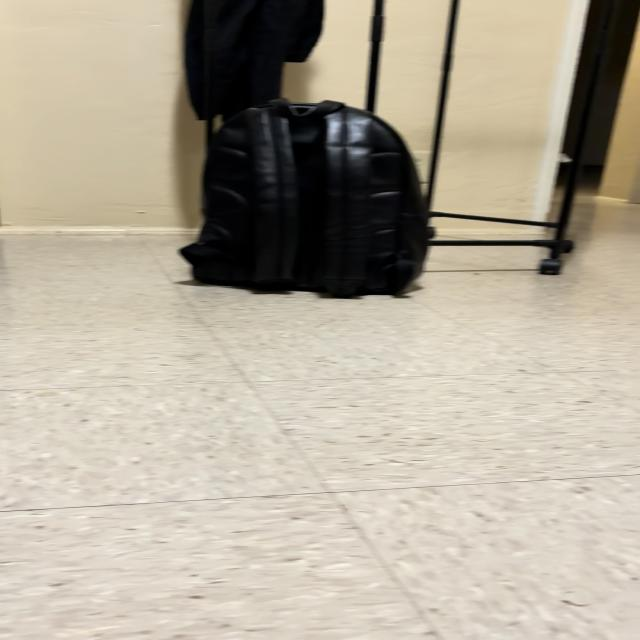backpack: (182, 100, 428, 297)
